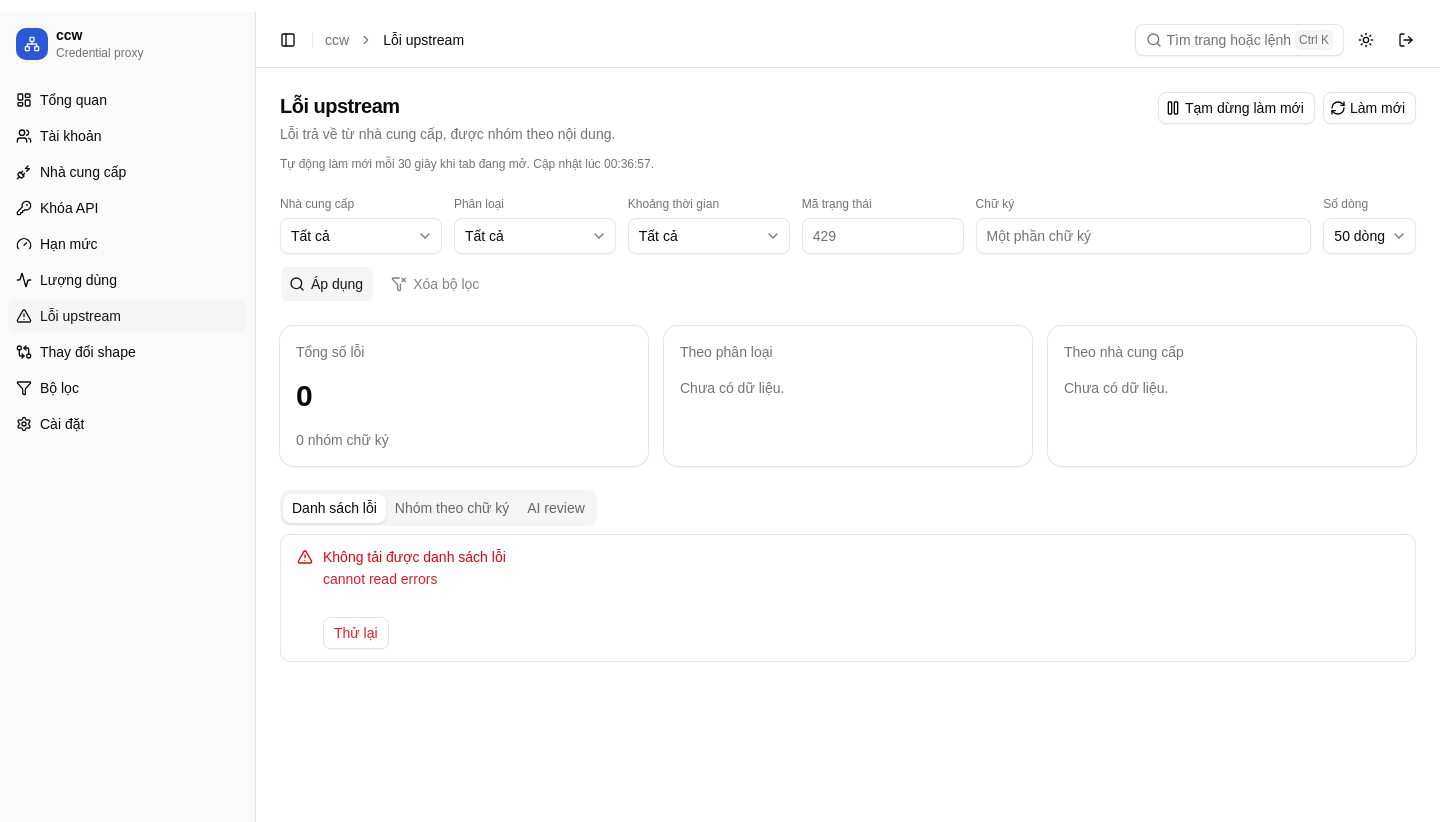
Test: errors page › shows a retryable error state when the list fails
This screenshot has width=1440, height=822.
Expected: the text "cannot read errors" is shown, [323,571,437,587]
What coordinates should you click on to do the following:
click the button "Thử lại"
I would click on:
 (356, 633)
Its box is [323,617,389,649].
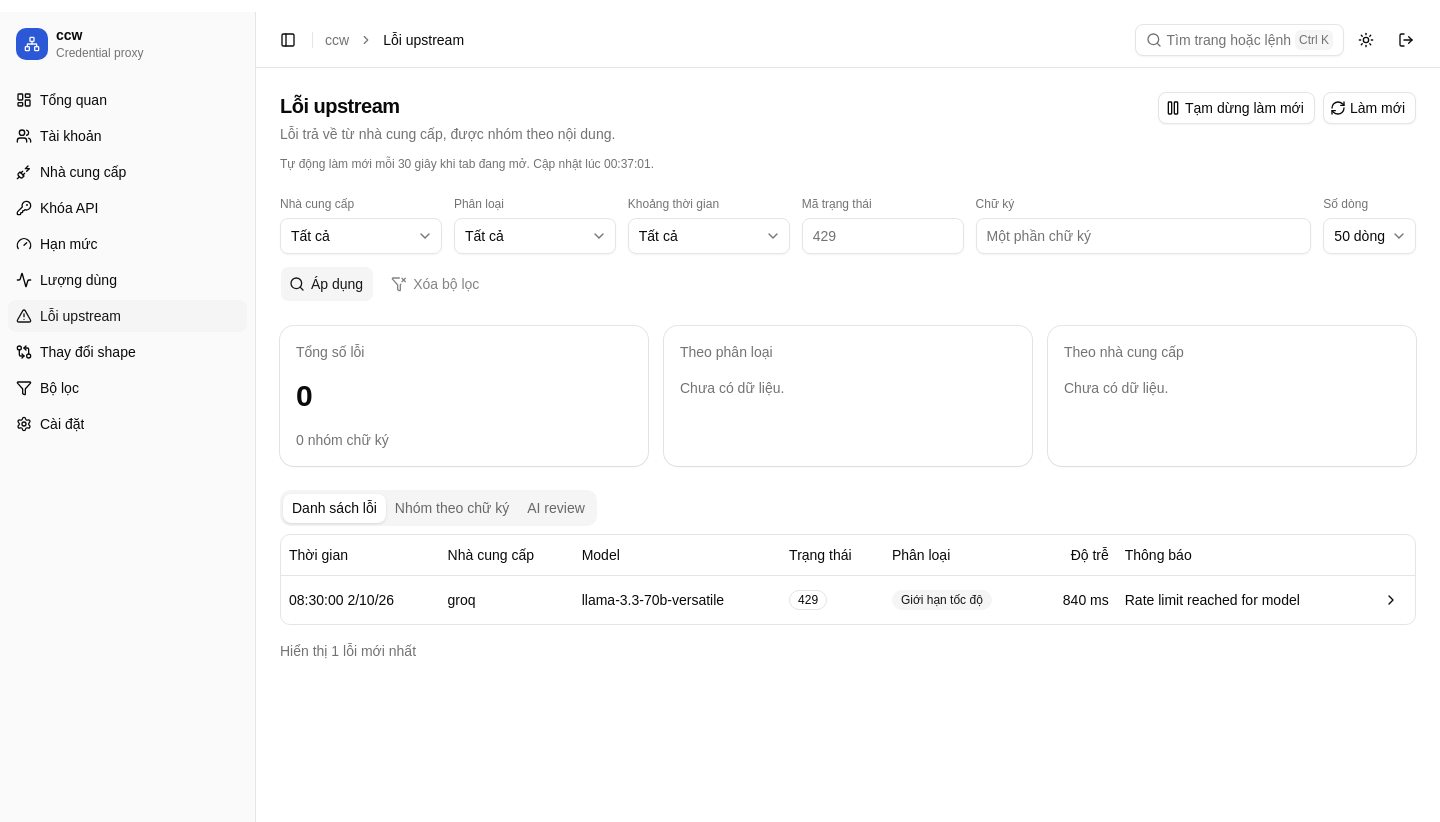
Expected: the text "Rate limit reached for model" is shown, [1117,575,1367,624]
